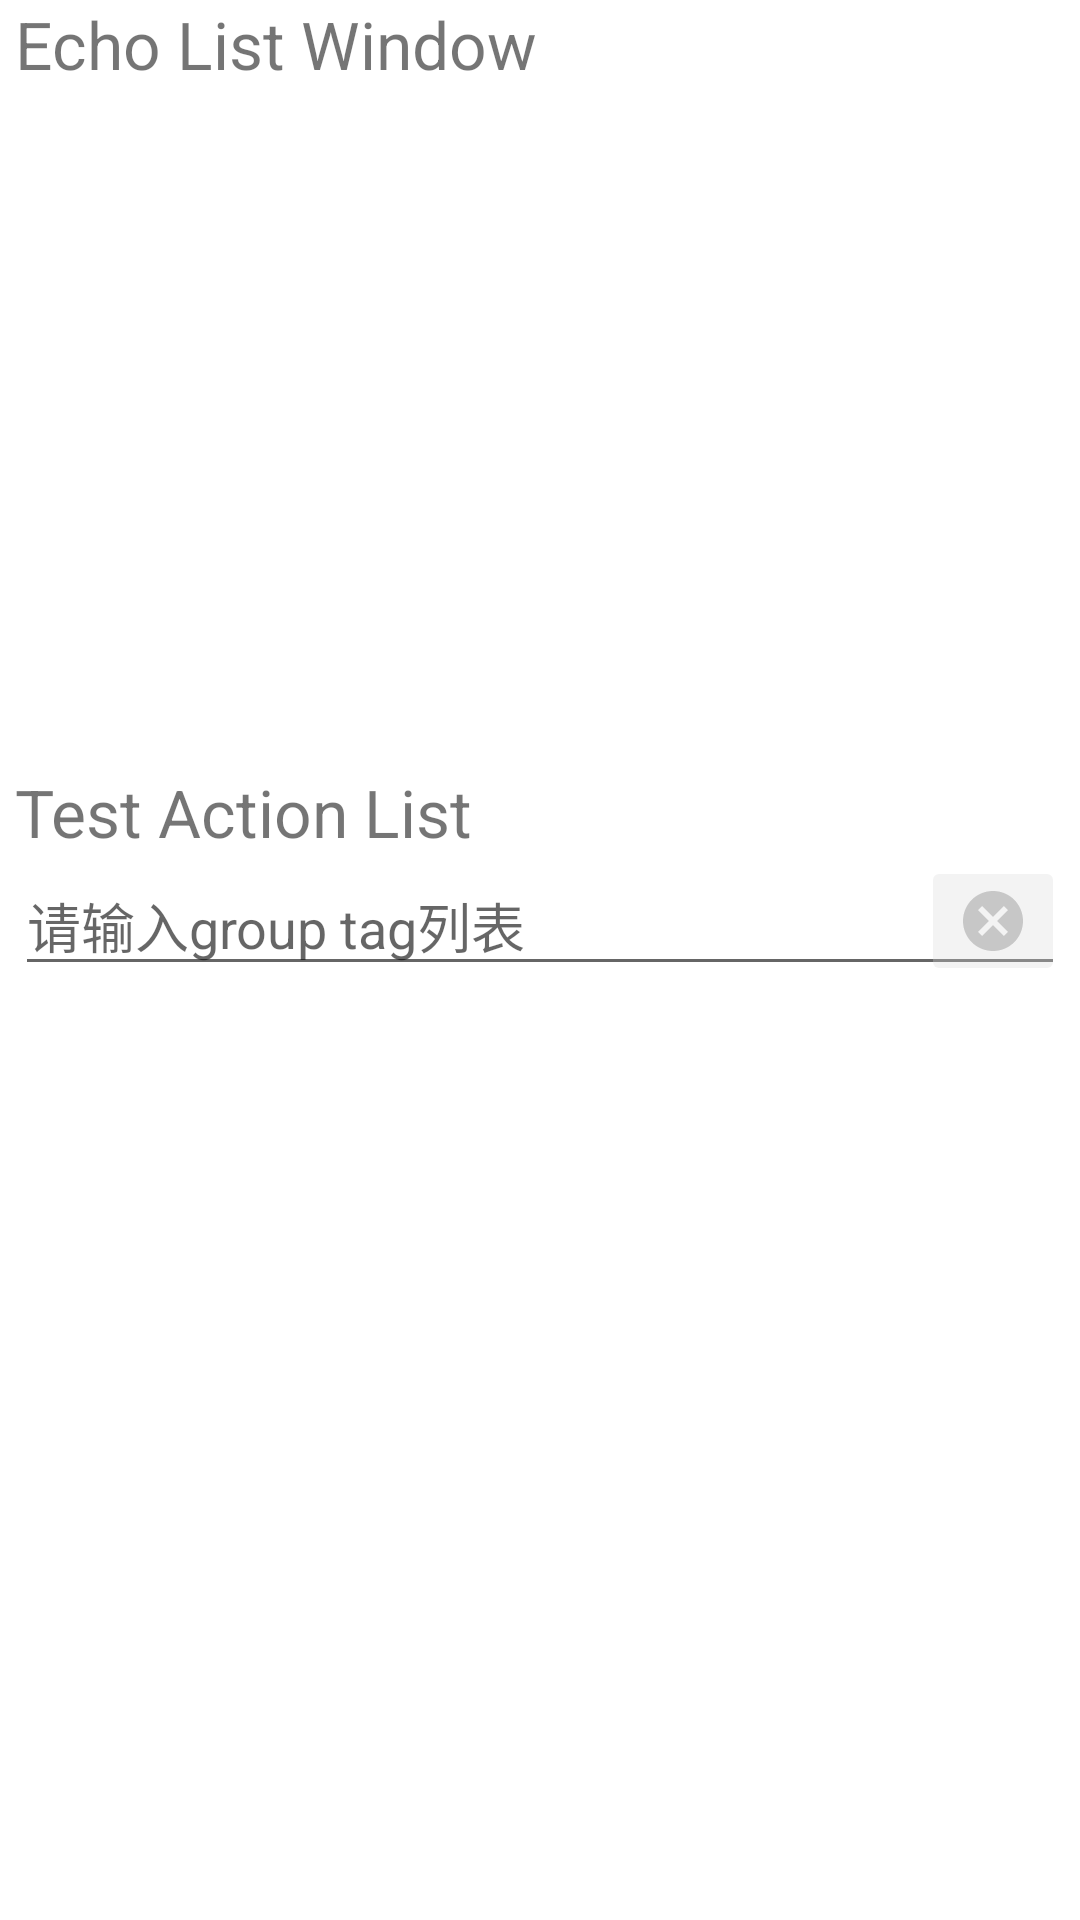

Screen size 1080×1920. Icon name, then its center in pixels as (x,y):
cancel: (993,921)
